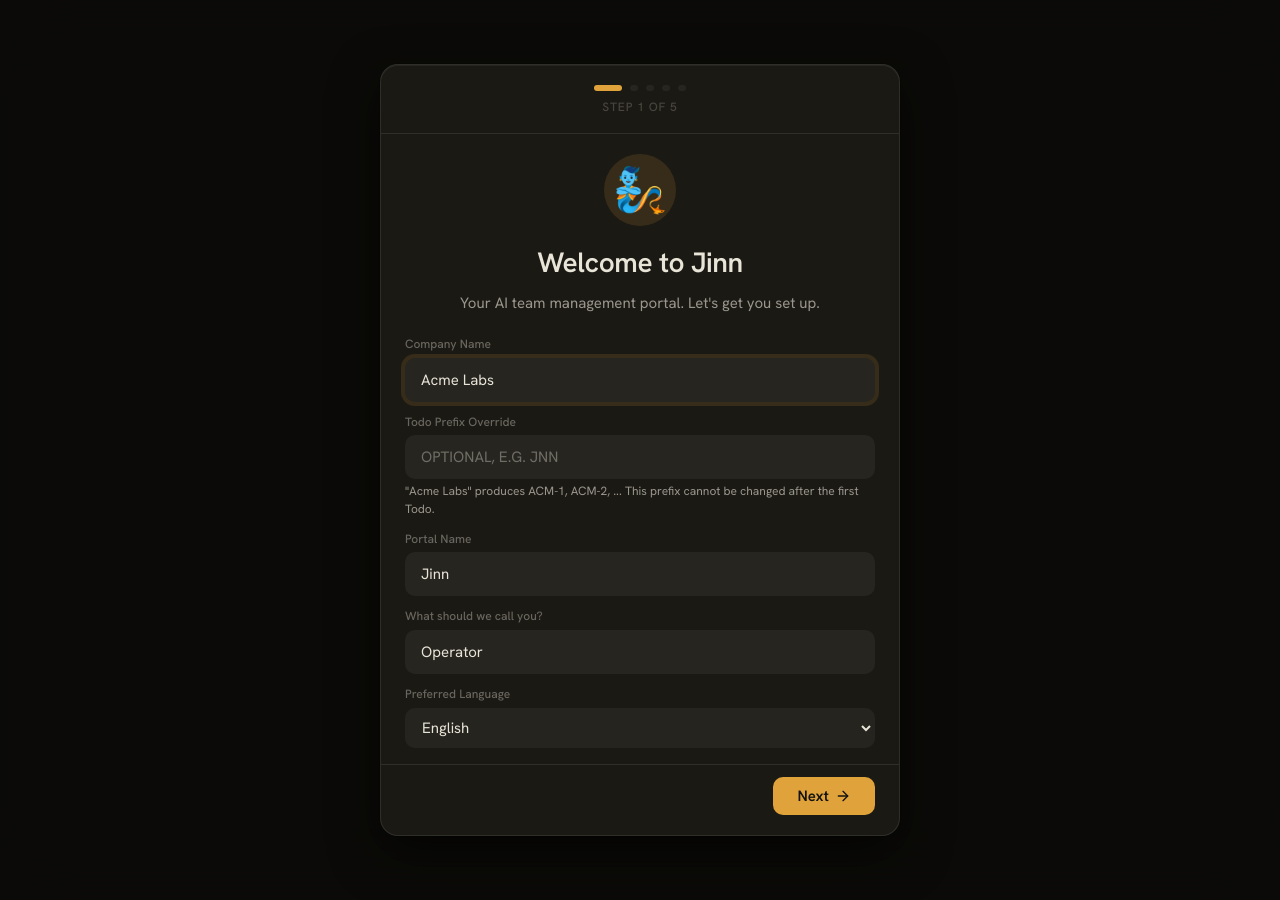
OnboardingWizard model registry › does not advance with a company name that cannot produce a prefix
In the field labelled "Company Name": (640, 380) [405, 358, 875, 402], type "AI"
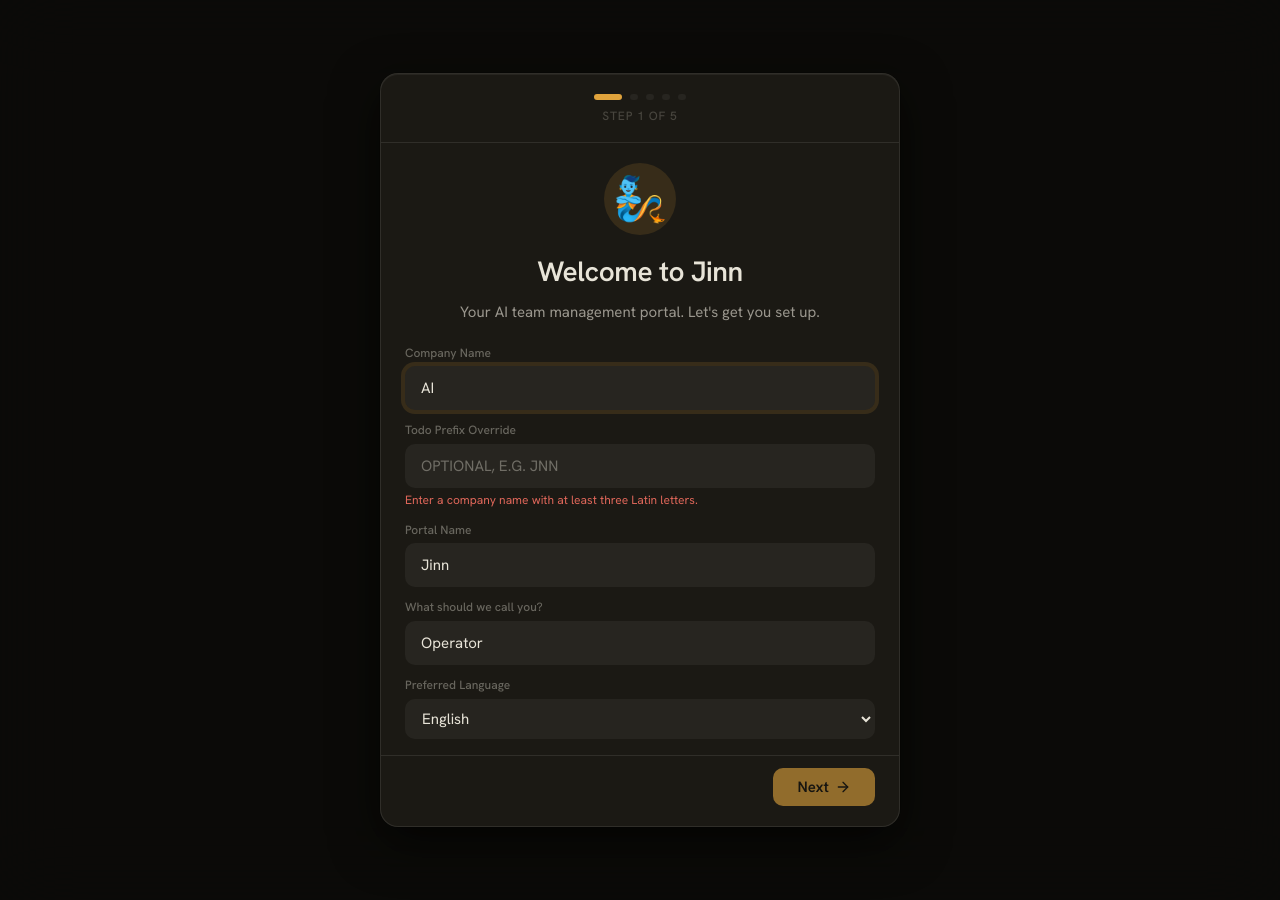
Now the button "Next" is disabled, box [773, 768, 875, 806]
Now the message shows "three Latin letters", box [405, 492, 698, 508]
